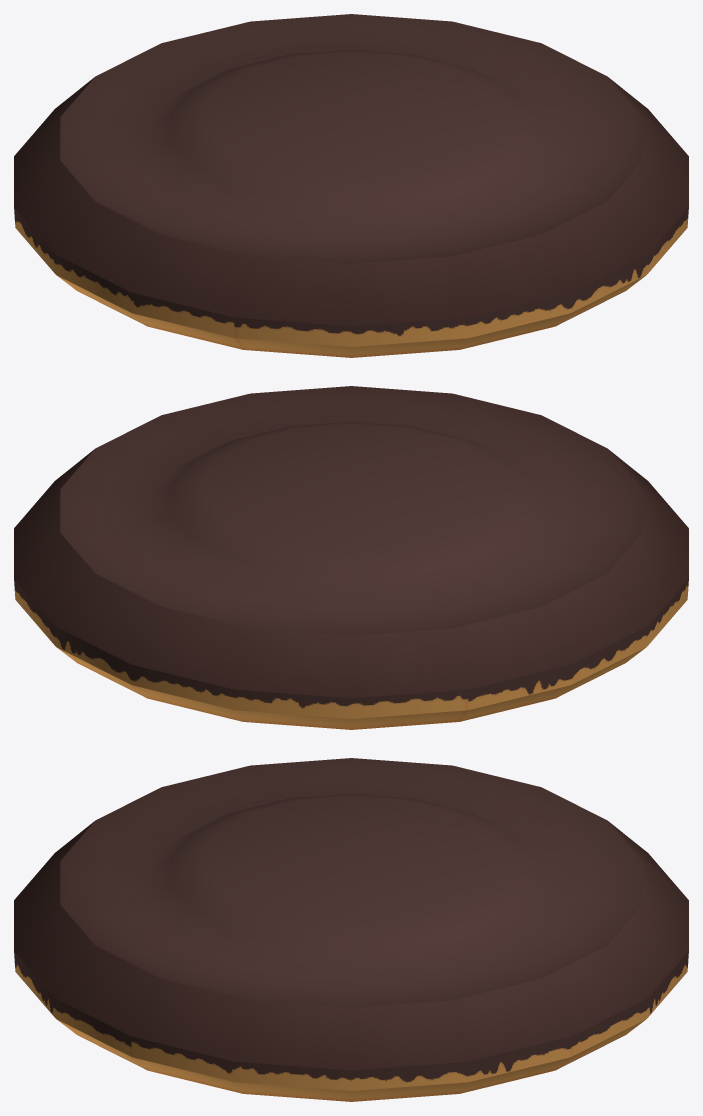
The model's file is JoffoCake.FBX.
3 views of the same model, one above another, from view 1: azimuth 30°, elevation 25°; view 2: azimuth 150°, elevation 25°; view 3: azimuth 270°, elevation 25° (orthographic).
Visible parts, largest first — view 1: Cylinder001; view 2: Cylinder001; view 3: Cylinder001.
Boxes of the visible parts, box(x1,y1,x2,y2) form: Cylinder001: box(14, 14, 688, 357); Cylinder001: box(14, 386, 688, 729); Cylinder001: box(14, 758, 688, 1101).
Bounding box in the file's own units: 42.76 × 10.53 × 42.11.
